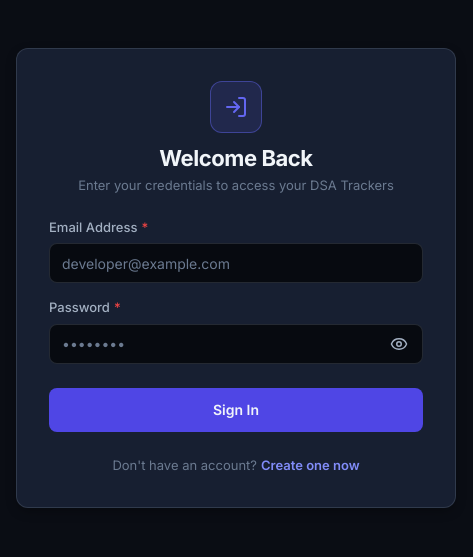
Test: Frontend Authentication Boundary & Routes › LoginPage › displays error banner when login credentials fail
In the field labelled "Email Address *": (236,263) [49,243,423,283], type "wrong@example.com"
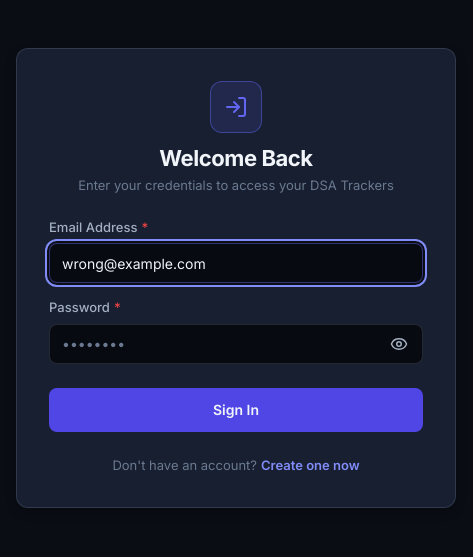
In the password field labelled "Password *": (236,344) [49,324,423,364], type "wrongPassword"
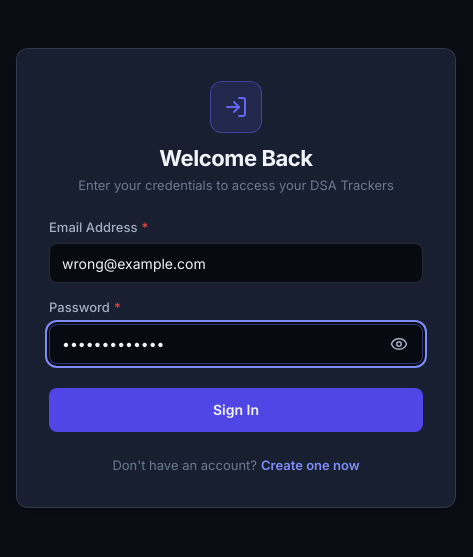
Click the button "Sign In": (236,410) [49,388,423,432]
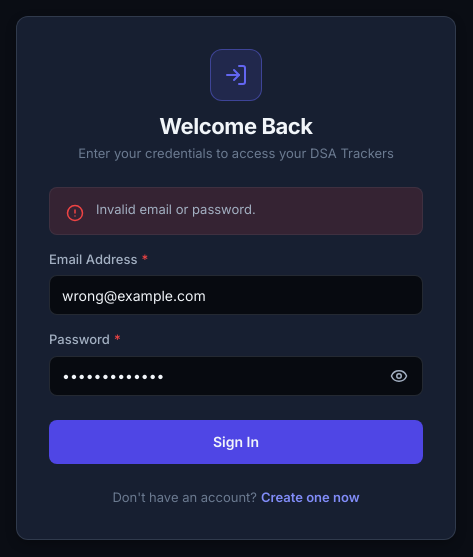
Result: the text "Invalid email or password." is shown at [96,201,256,217]
